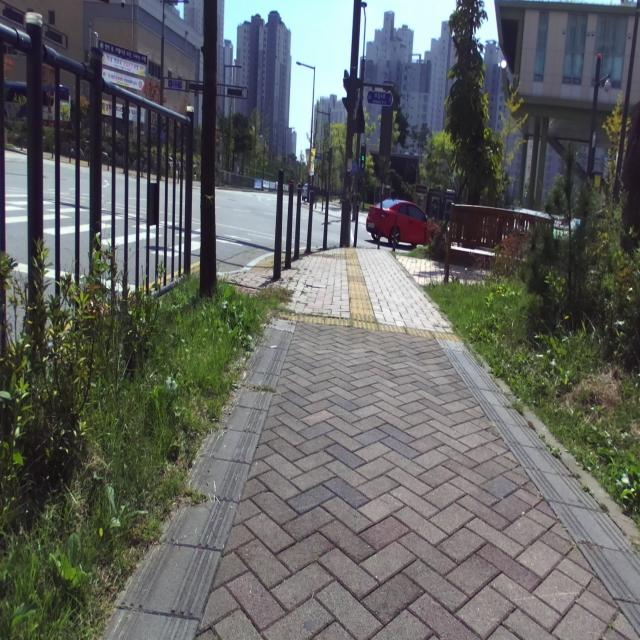초록불: (359, 143, 366, 178)
